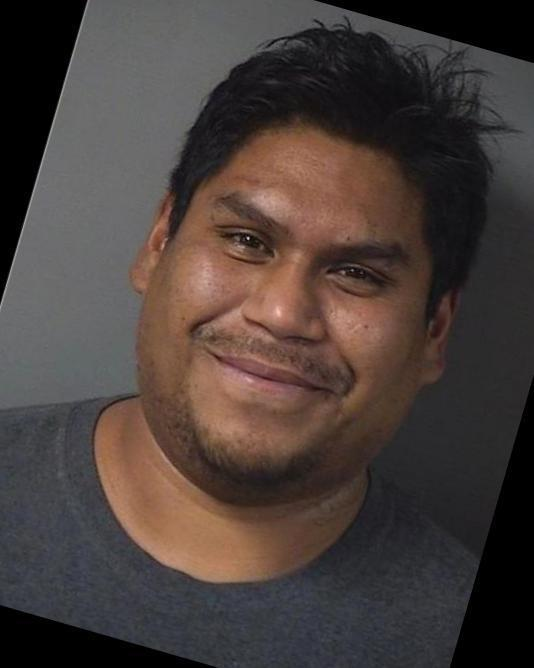Sober: (169, 139, 425, 481)
